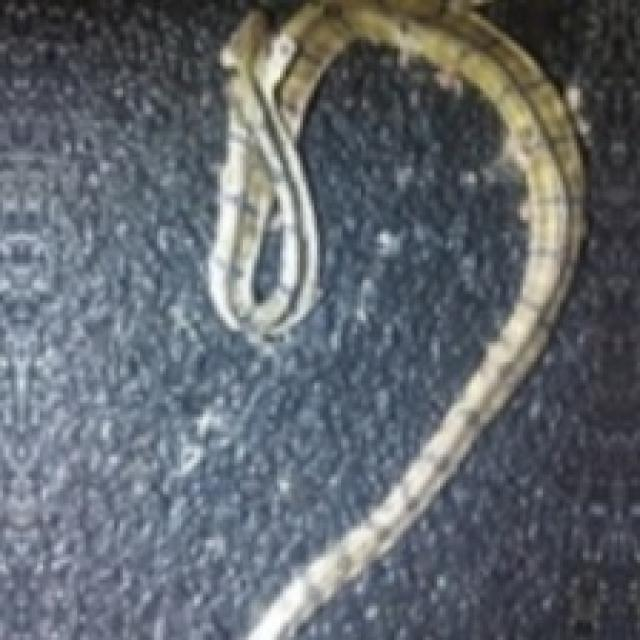dog-toothed cat snake: (209, 0, 583, 637)
